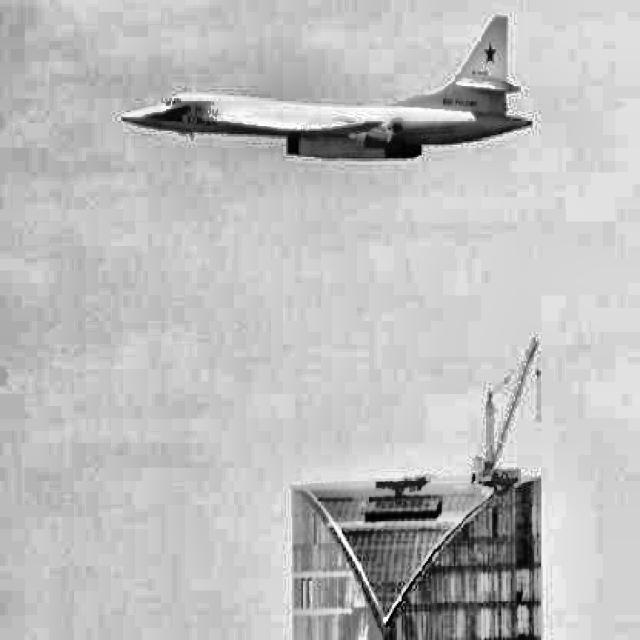Tu160: (118, 14, 532, 158)
